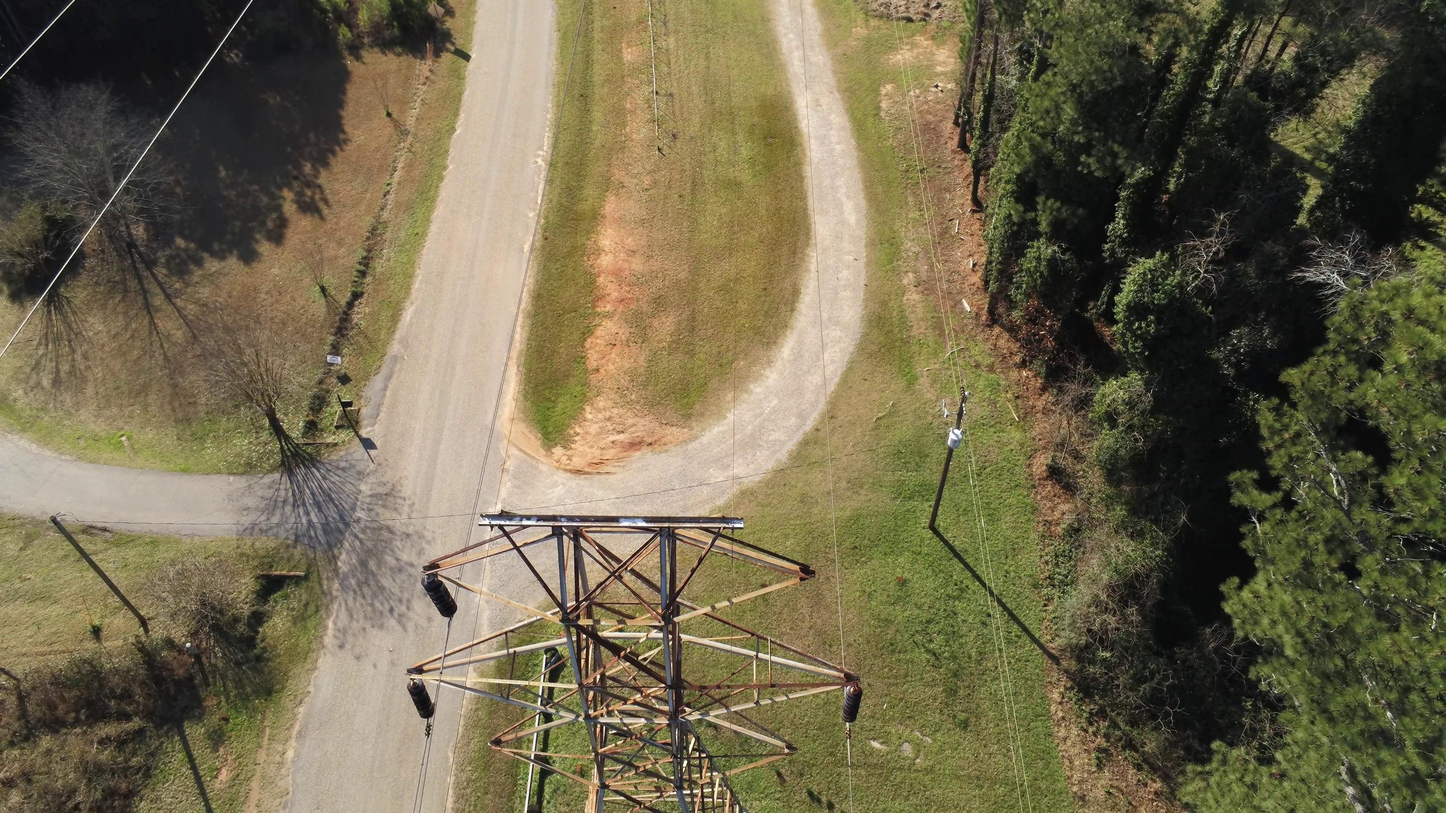power_tower: (405, 509, 862, 813)
